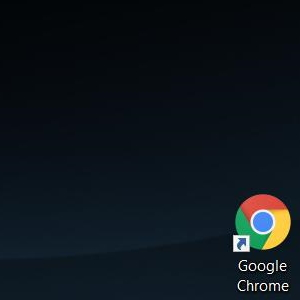chrome: (233, 194, 290, 252)
